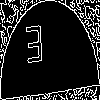E: (25, 25, 44, 74)
